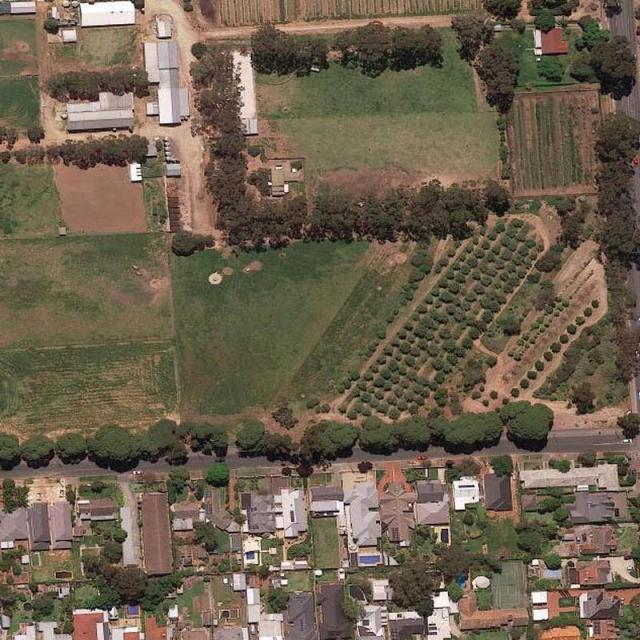vehicle: (418, 456, 426, 461), (134, 470, 142, 474), (623, 438, 631, 442), (582, 535, 586, 542), (576, 537, 580, 543)
